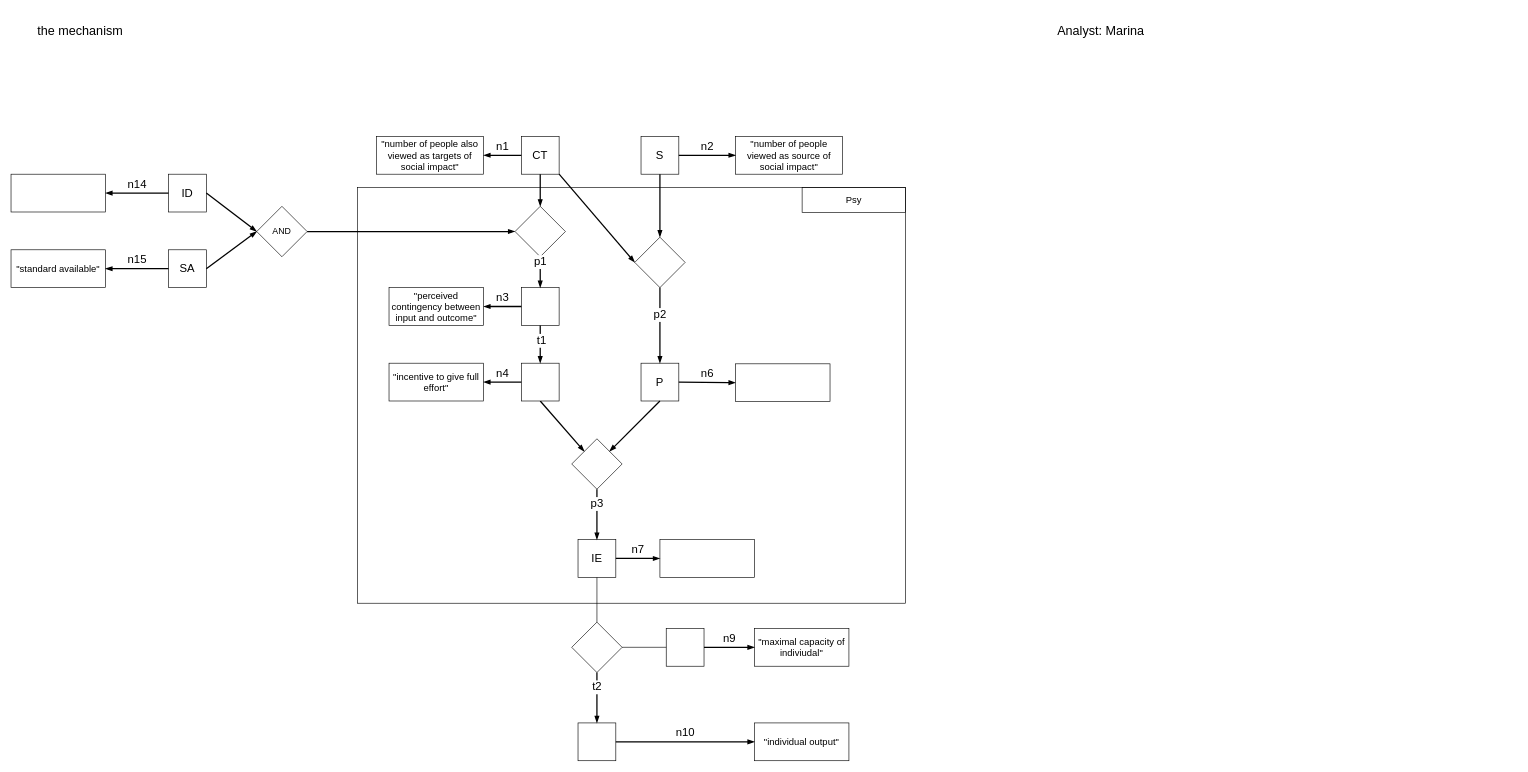
Image size: 1528x772. Some labels were removed from this diagram. Here are the shapes that lost their labels. From the top down, the centre of each, then its label:
pixel 58 193: "identifiability of individual output"
pixel 540 306: CON
pixel 540 382: INC
pixel 782 382: "Social pressure on each individual"
pixel 706 558: "individual effort"
pixel 685 647: MC
pixel 596 741: IO
